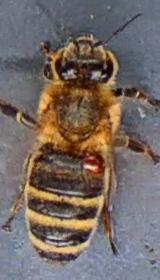varroa_mite: (75, 140, 108, 178)
